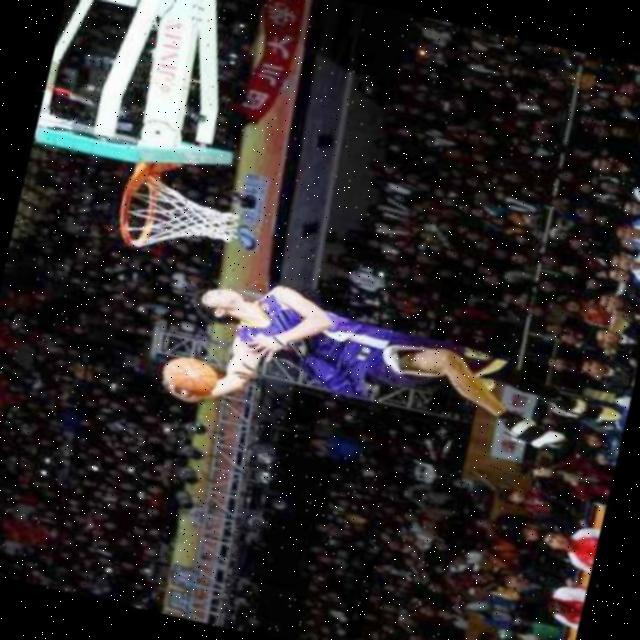ball: (157, 351, 220, 397)
hoop: (110, 160, 165, 256)
